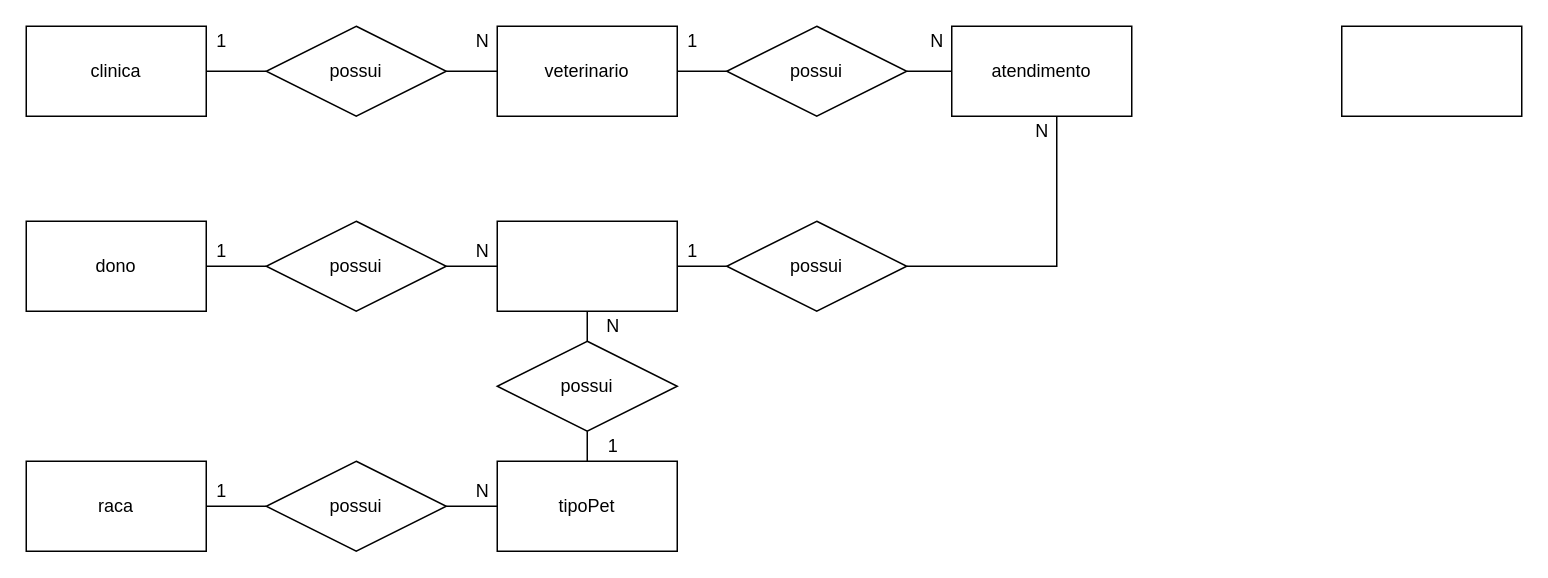
This 1548x578 diagram has some shape labels left out. The centre of each missing label's shape, as x and y in pixels:
endereco: point (1431, 70)
pet: point (586, 265)
